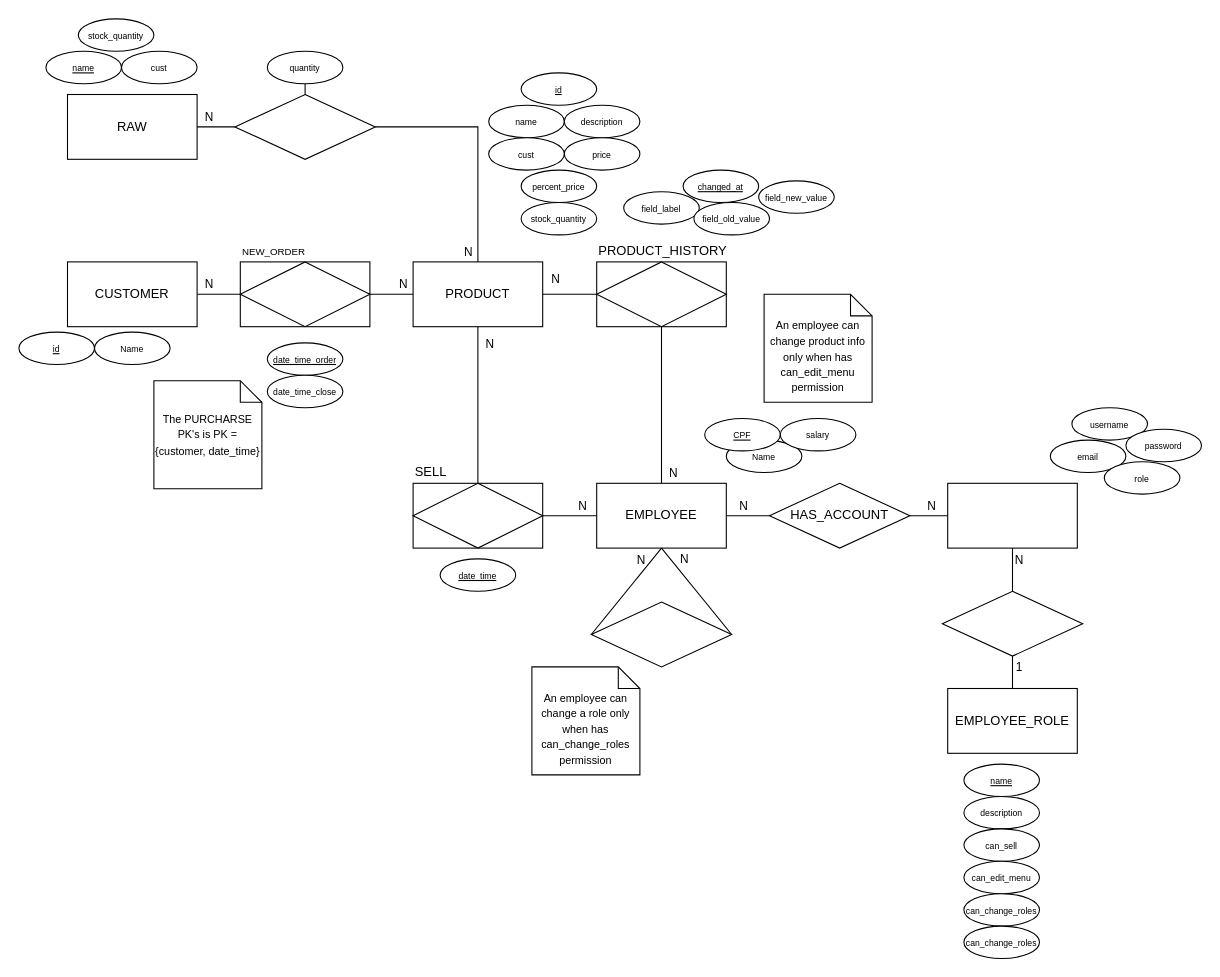
The diagram is 1220 pixels wide and 977 high, and some of its shapes have lost their labels. Here are the shapes that lost their labels. From the top down, the centre of each, then its label:
At point 304,126: "CONTAIN".
At point 304,294: "ORDER_PRODUCT".
At point 661,294: "CHANGE_PRODUCT".
At point 477,515: "SELL_PRODUCT".
At point 1012,515: "EMPLOYEE_ACCOUNT".
At point 661,634: "CHANGE_ROLE".
At point 1012,623: "HAS_ROLE".
